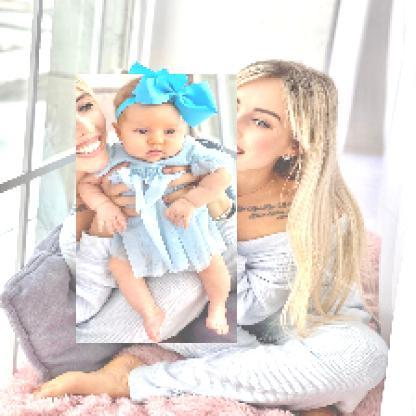child: (77, 75, 239, 345)
